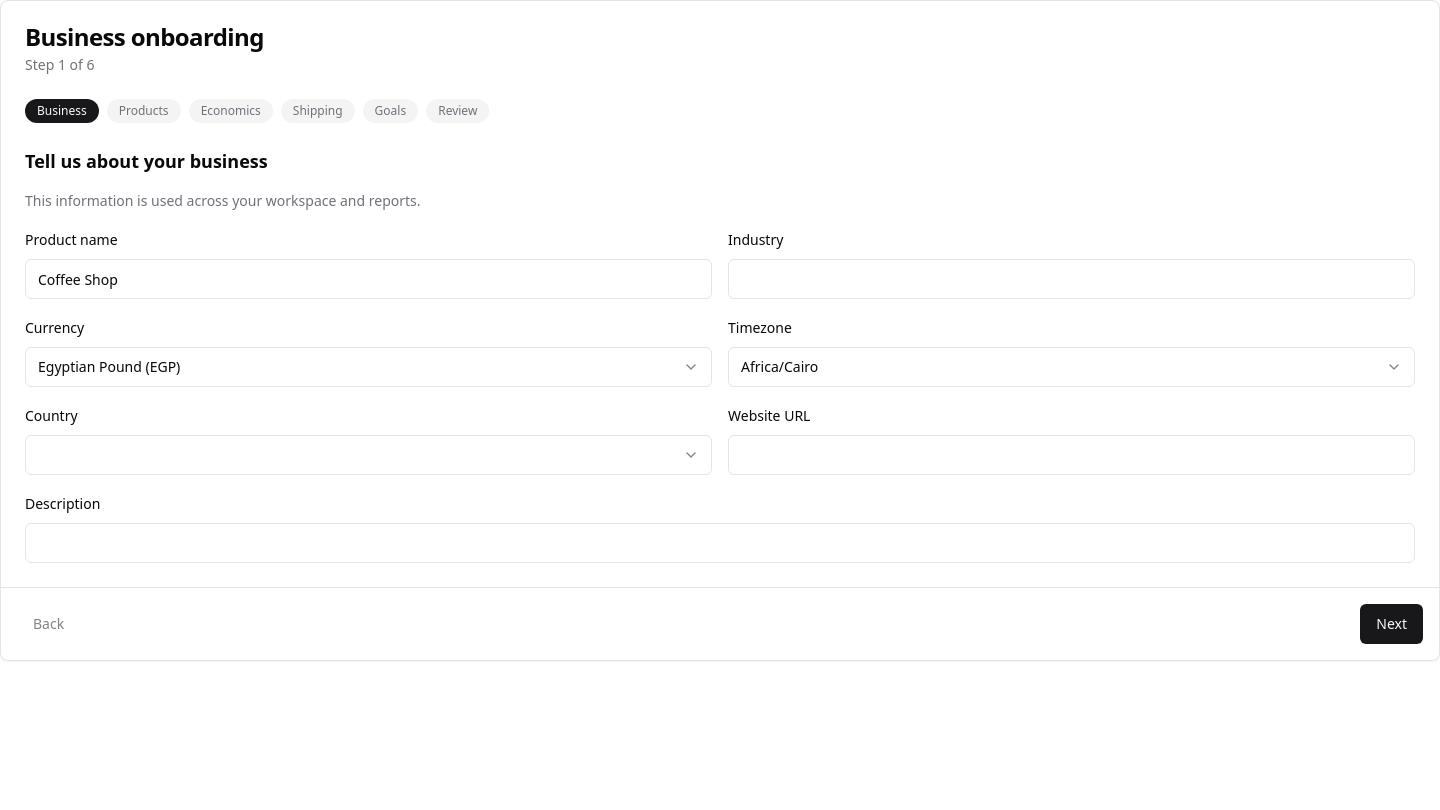
it: onboarding wizard › saves business info and advances to the products step
Click the button "Next" at [1392, 624], box 1360,604 -> 1423,644
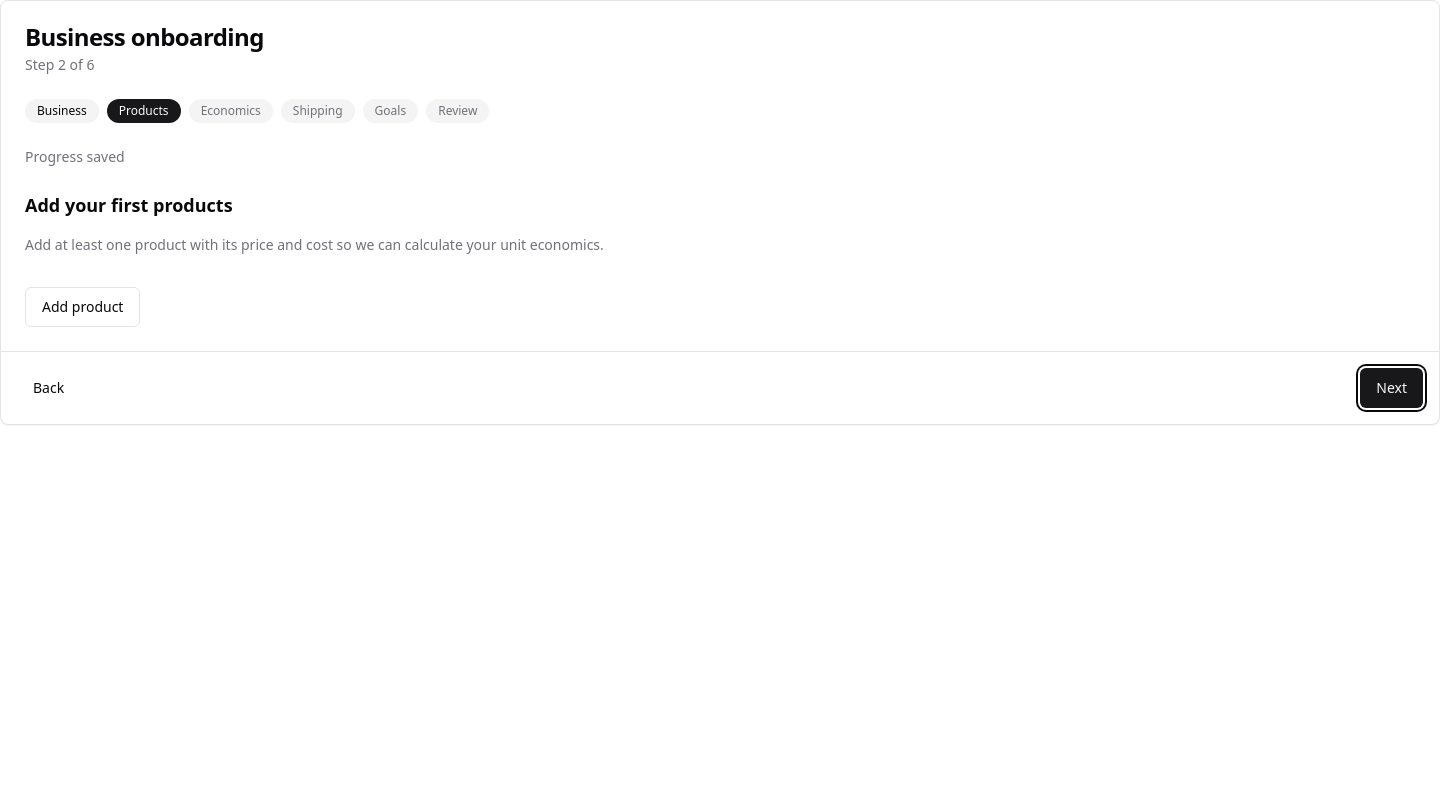
Check: the heading "Add your first products" is shown, box 25,193 -> 233,217
